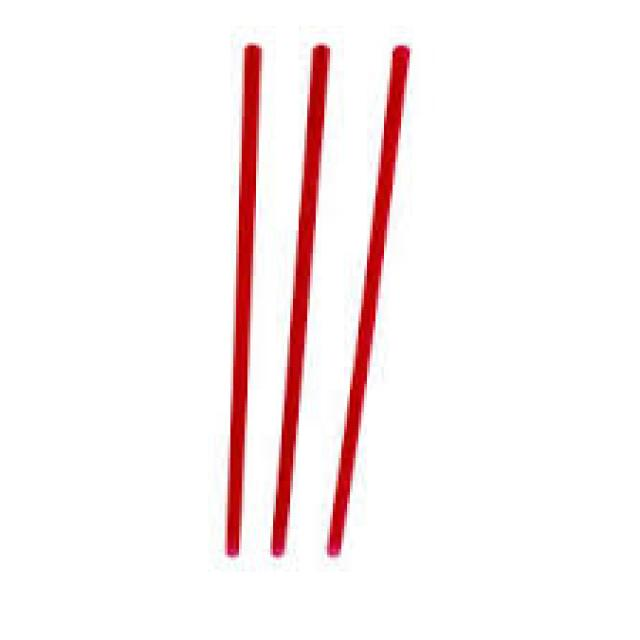straw: (331, 47, 410, 558)
